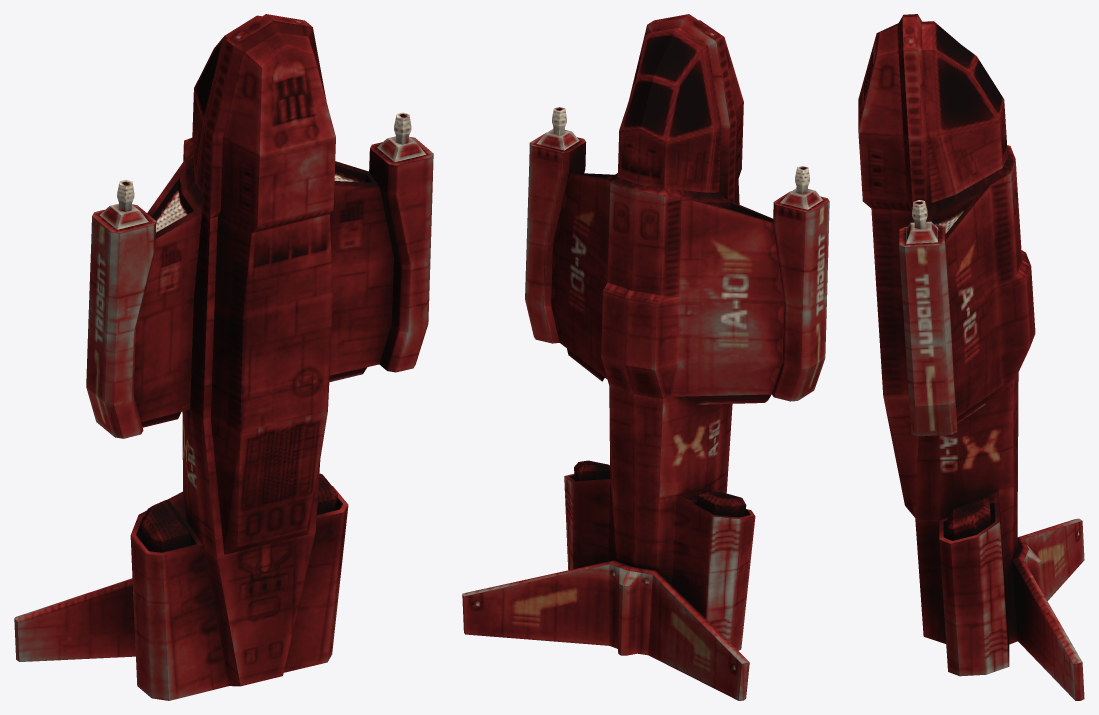
File: salvage.fbx
3 views of the same model, side by side, from view 1: azimuth 30°, elevation 25°; view 2: azimuth 150°, elevation 25°; view 3: azimuth 270°, elevation 25° (orthographic). The views are drawn at different scales.
Parts seen in each view (by area): view 1: Trident_Space_Fighter; view 2: Trident_Space_Fighter; view 3: Trident_Space_Fighter.
Boxes of the visible parts, x1,y1,x2,y2 form: Trident_Space_Fighter: [14, 14, 433, 700]; Trident_Space_Fighter: [462, 14, 829, 700]; Trident_Space_Fighter: [858, 14, 1084, 700].
Bounding box in the file's own units: 1904 × 1260 × 3822.
1 material, 1 textured.
